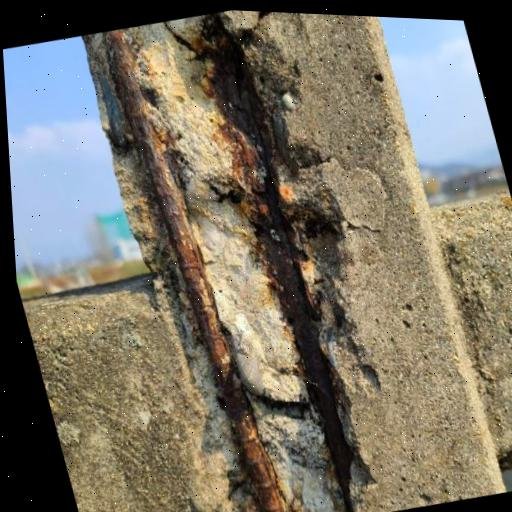exposed_rebar: (107, 29, 286, 512), (223, 54, 356, 512)
spalling: (83, 12, 387, 512)
